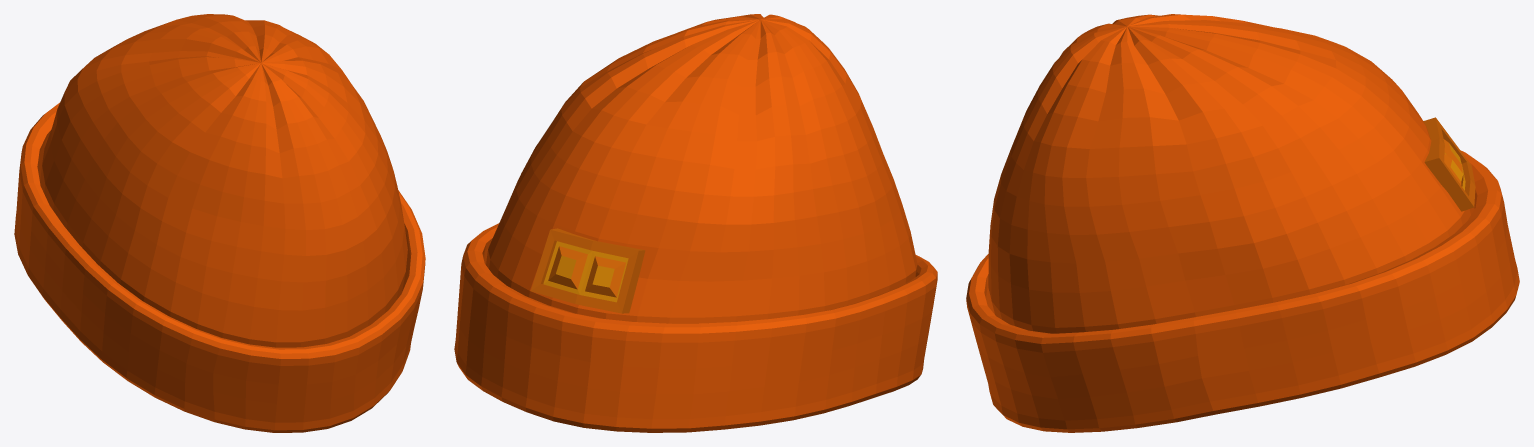
File: Beanie.fbx neu.fbx
3 views of the same model, side by side, from view 1: azimuth 30°, elevation 25°; view 2: azimuth 150°, elevation 25°; view 3: azimuth 270°, elevation 25° (orthographic). The views are drawn at different scales.
Parts seen in each view (by area): view 1: Beanie; view 2: Beanie; view 3: Beanie.
Boxes of the visible parts, x1,y1,x2,y2 form: Beanie: [14, 14, 425, 432]; Beanie: [454, 14, 937, 432]; Beanie: [966, 14, 1519, 432].
Bounding box in the file's own units: 983 × 957 × 1307.
